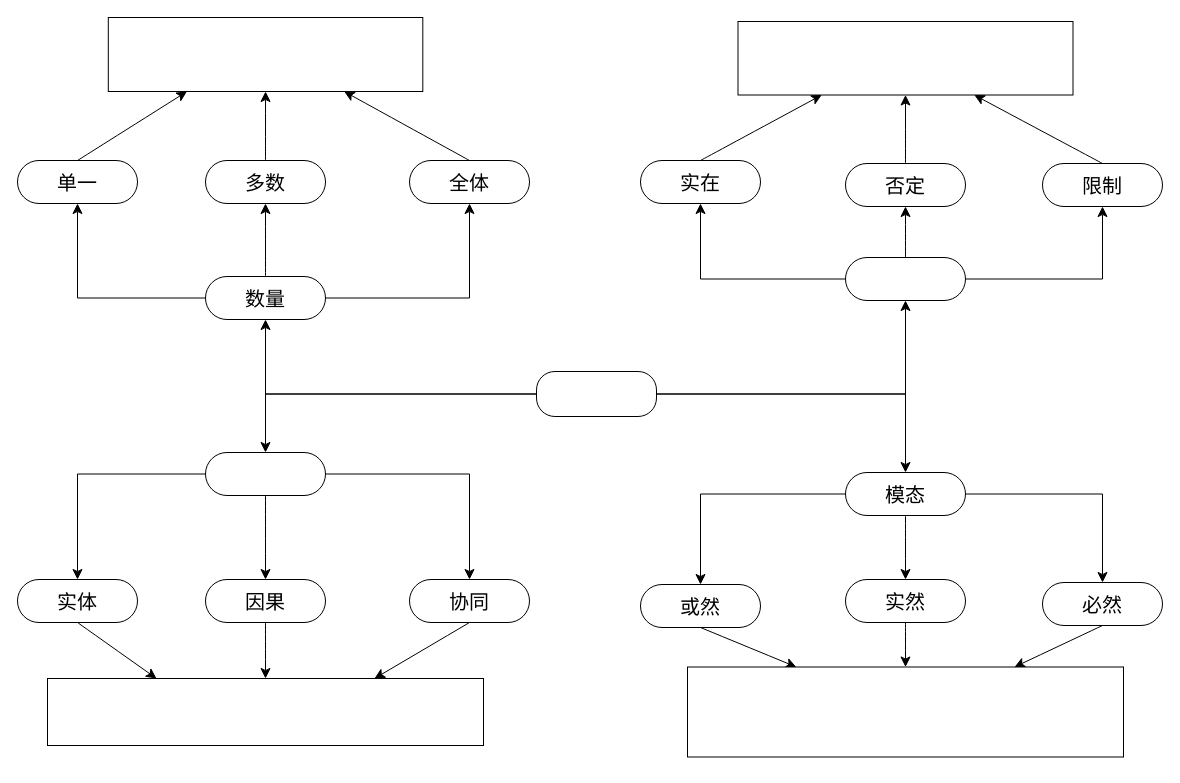
Some shapes in this 1180 by 783 pixel diagram are drawn without their labels. Each missing label, with the box of its shape:
全体把许多个体综合成为整体: (107, 16, 423, 92)
关系: (204, 452, 326, 496)
实体之间不是单向因果 而是 彼此决定: (46, 678, 484, 746)
生成上的“正反合”综合关系 认知深度上的“由虚到实”递进关系: (686, 666, 1124, 757)
范畴表: (536, 370, 656, 416)
质量: (844, 256, 966, 300)
限制就是 实在受到否定后的程度: (737, 20, 1073, 95)
